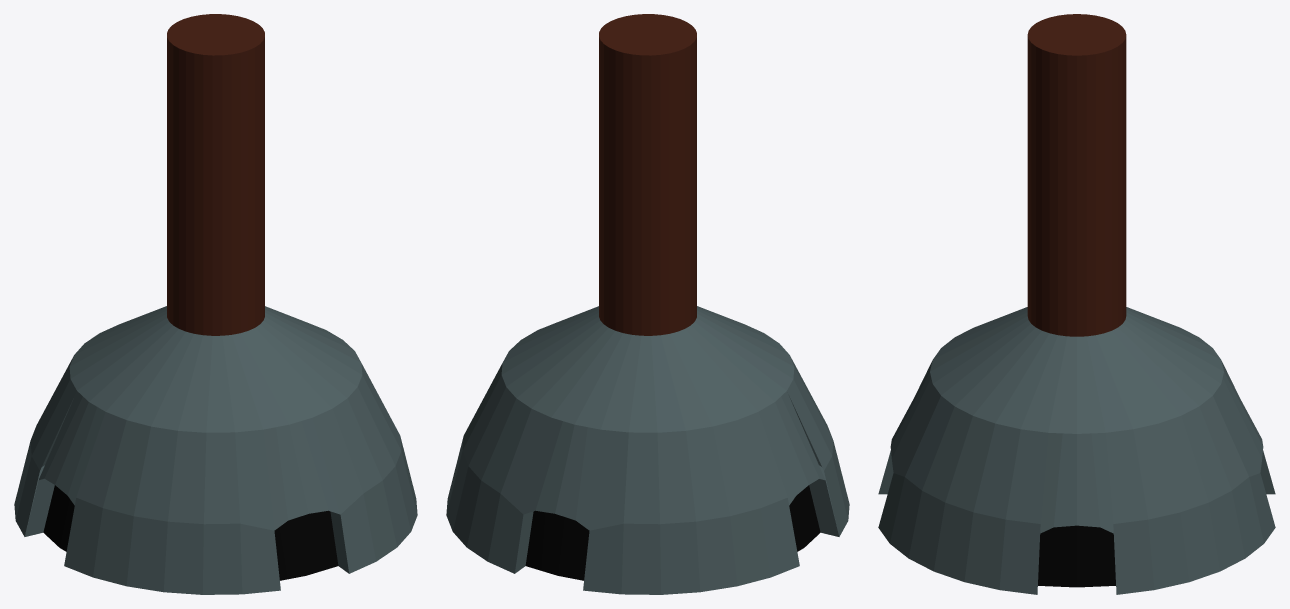
File: treeHome.fbx
3 views of the same model, side by side, from view 1: azimuth 30°, elevation 25°; view 2: azimuth 150°, elevation 25°; view 3: azimuth 270°, elevation 25° (orthographic).
Parts seen in each view (by area): view 1: treeHome; view 2: treeHome; view 3: treeHome.
Part boxes in pixels (x1=…): treeHome: x1=14, y1=14, x2=417, y2=594; treeHome: x1=446, y1=14, x2=849, y2=594; treeHome: x1=878, y1=14, x2=1275, y2=594.
Bounding box in the file's own units: 805 × 1065 × 805.
